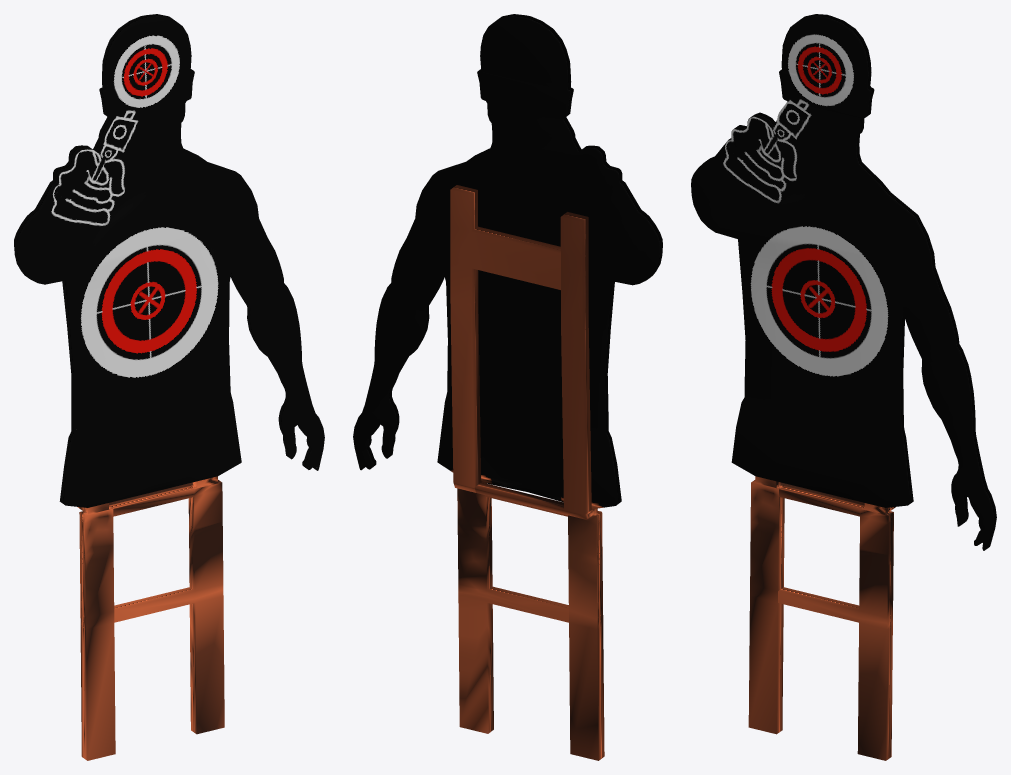
Rendered from target.obj.
The picture shows the model from 3 angles, left to right: view 1: azimuth 30°, elevation 25°; view 2: azimuth 150°, elevation 25°; view 3: azimuth 330°, elevation 25°; orthographic projection.
Parts seen in each view (by area): view 1: Target_Material.004_0; view 2: Target_Material.004_0; view 3: Target_Material.004_0.
Part boxes in pixels (x1=…): Target_Material.004_0: x1=14, y1=14, x2=324, y2=760; Target_Material.004_0: x1=353, y1=14, x2=662, y2=760; Target_Material.004_0: x1=691, y1=14, x2=996, y2=760.
Size of the model in its own units: 2.8 by 6.35 by 0.3008.
Materials: 1 (1 with a texture image).
